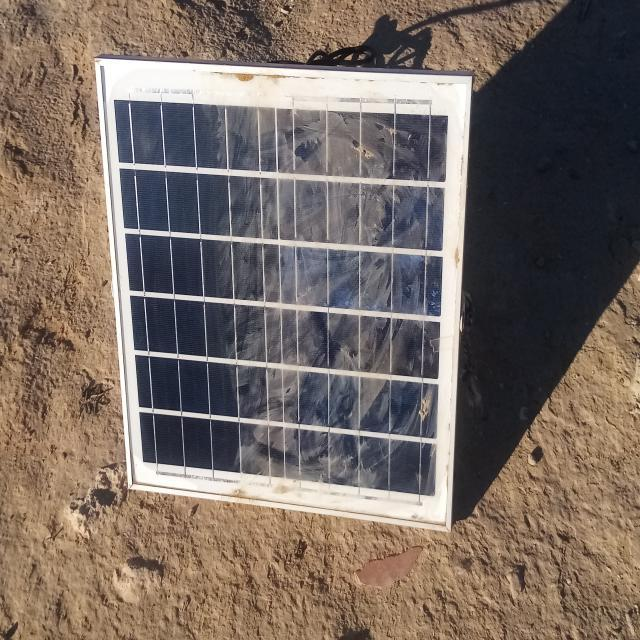faulty: (98, 62, 469, 529)
